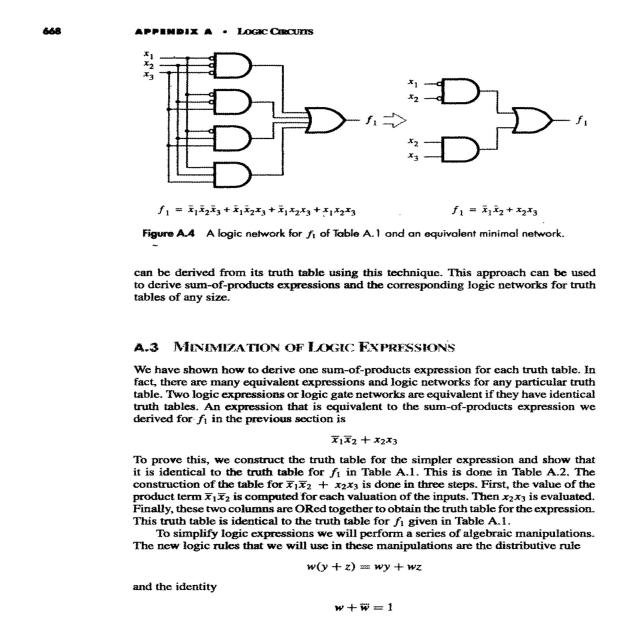diagram: (119, 47, 638, 254)
